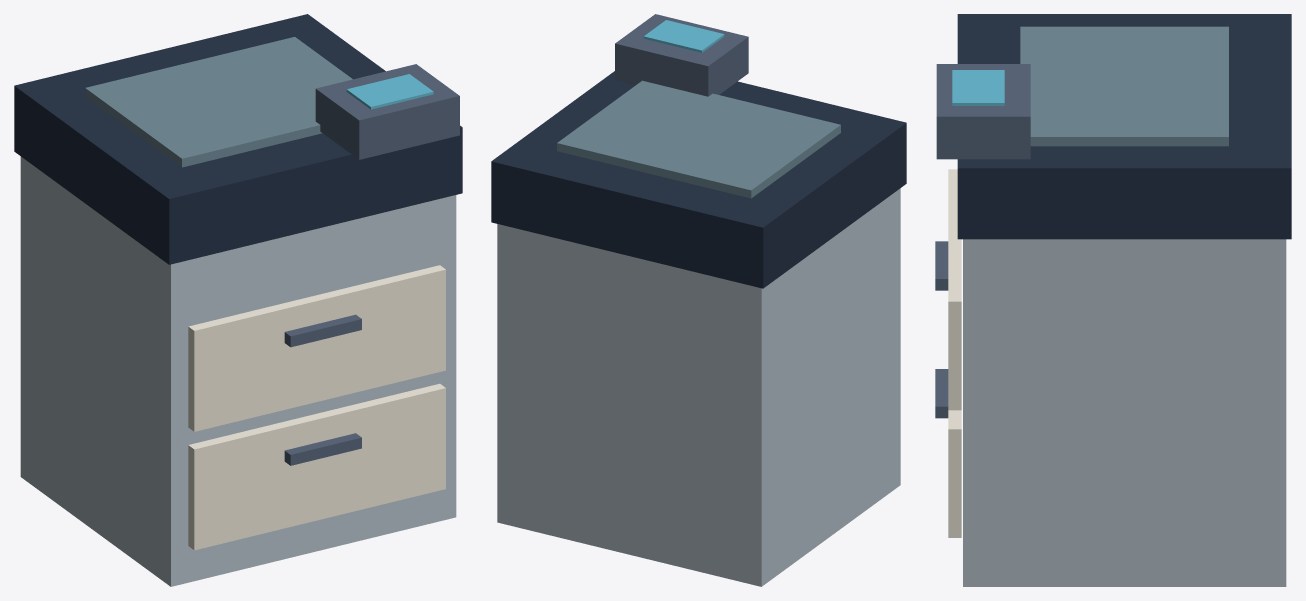
The model's file is officeCopier.glb.
3 renders of one model, left to right at view 1: azimuth 30°, elevation 25°; view 2: azimuth 150°, elevation 25°; view 3: azimuth 270°, elevation 25°, orthographic. The views are drawn at different scales.
Size of the model in its own units: 0.7 by 0.993 by 0.6825.
